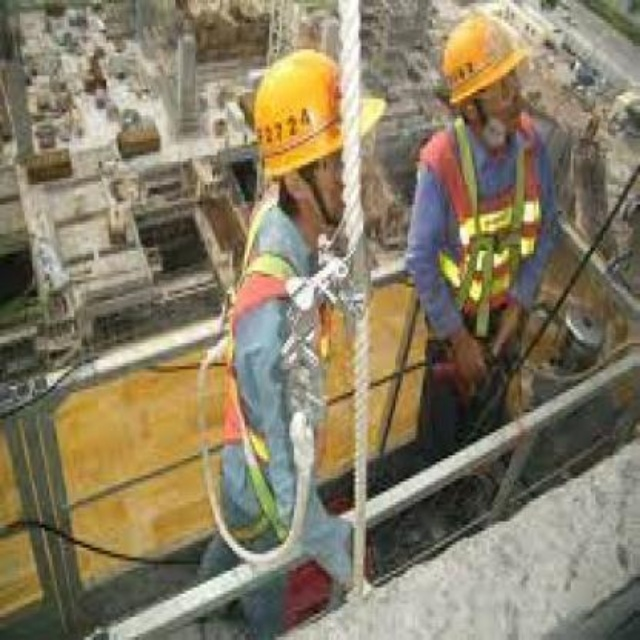Arnes_seguridad: (197, 187, 351, 571), (424, 118, 541, 407)
